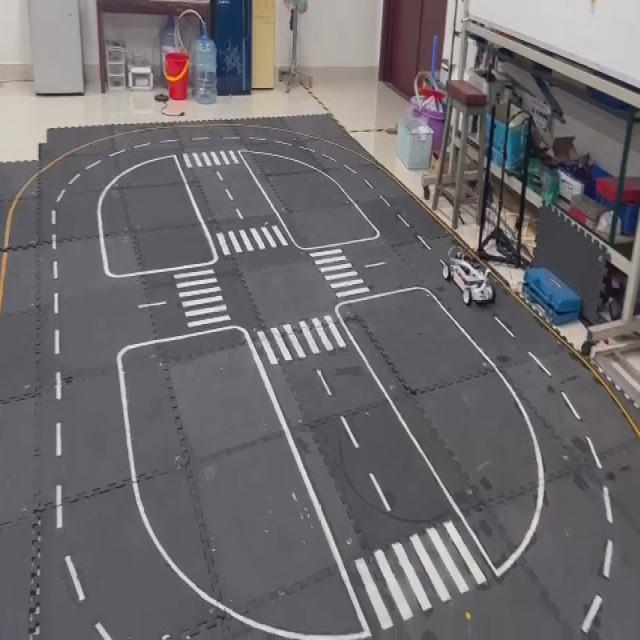SiCo-CAR: (521, 265, 582, 327), (438, 242, 496, 306)
